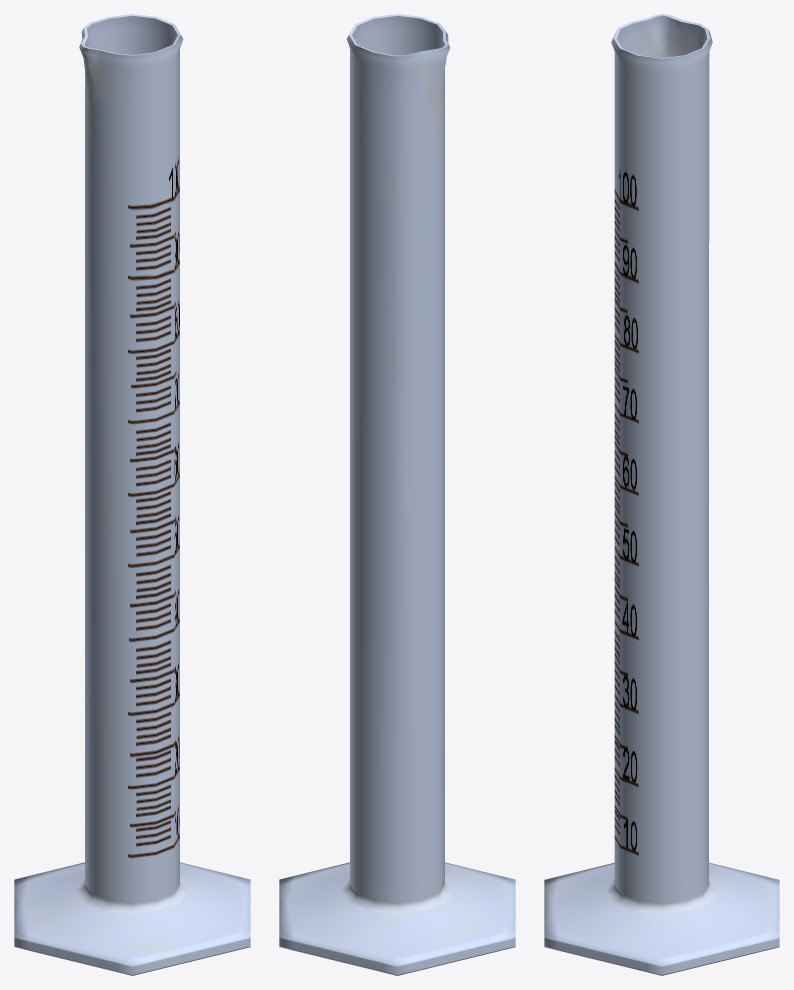
3 views of the same model, side by side, from view 1: azimuth 30°, elevation 25°; view 2: azimuth 150°, elevation 25°; view 3: azimuth 270°, elevation 25° (orthographic).
Visible parts, largest first — view 1: TestTube02_; view 2: TestTube02_; view 3: TestTube02_.
Boxes of the visible parts, x1,y1,x2,y2 form: TestTube02_: (14,14,250,975); TestTube02_: (279,14,515,975); TestTube02_: (544,14,779,975).
Bounding box in the file's own units: 0.0851 × 0.3045 × 0.0737.
